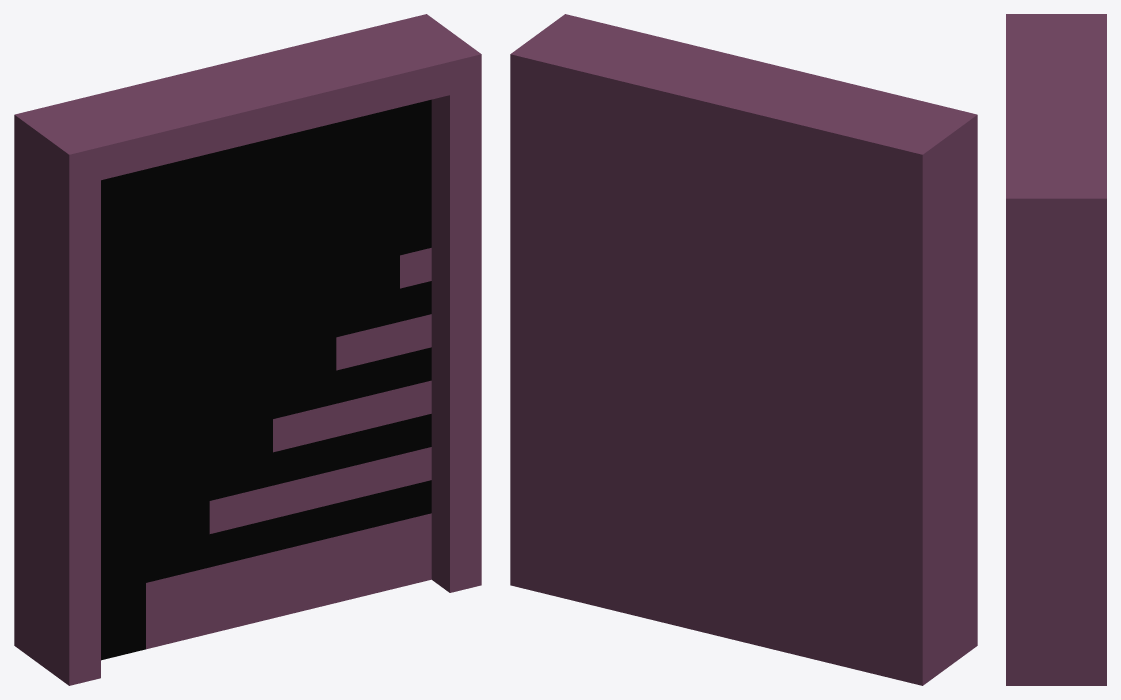
Rendered from dungeon_c_b_entrance_b.obj.
3 views of the same model, side by side, from view 1: azimuth 30°, elevation 25°; view 2: azimuth 150°, elevation 25°; view 3: azimuth 270°, elevation 25° (orthographic). The views are drawn at different scales.
Size of the model in its own units: 1.3 by 1.6 by 0.3.
Materials: 1 (1 with a texture image).
